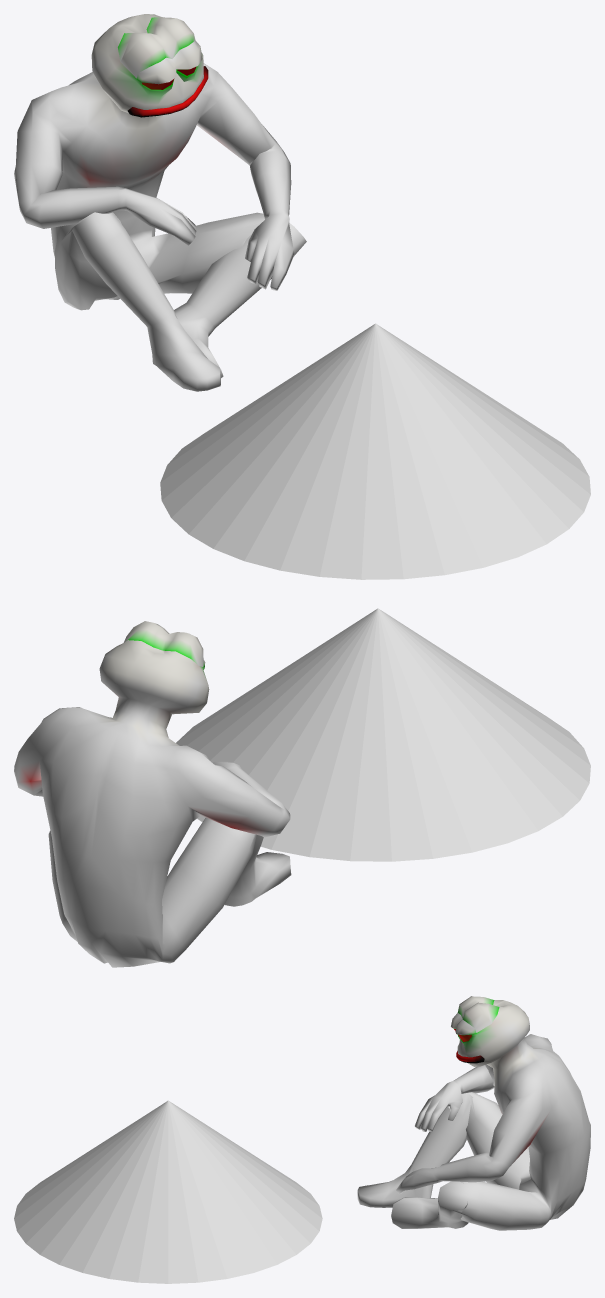
File: scene_test_depth.gltf
3 renders of one model, top to bottom at view 1: azimuth 30°, elevation 25°; view 2: azimuth 150°, elevation 25°; view 3: azimuth 270°, elevation 25°, orthographic. The views are drawn at different scales.
Visible parts, largest first — view 1: Cone, Body; view 2: Cone, Body; view 3: Cone, Body.
Boxes of the visible parts, left/top/right/bottom form: Cone: left=160, top=323, right=590, bottom=579; Body: left=14, top=14, right=306, bottom=391; Cone: left=176, top=608, right=590, bottom=861; Body: left=14, top=621, right=291, bottom=967; Cone: left=14, top=1100, right=322, bottom=1283; Body: left=357, top=996, right=590, bottom=1230.
Size of what is drawn, in the model's own units: 1.81 by 1.49 by 3.38.
